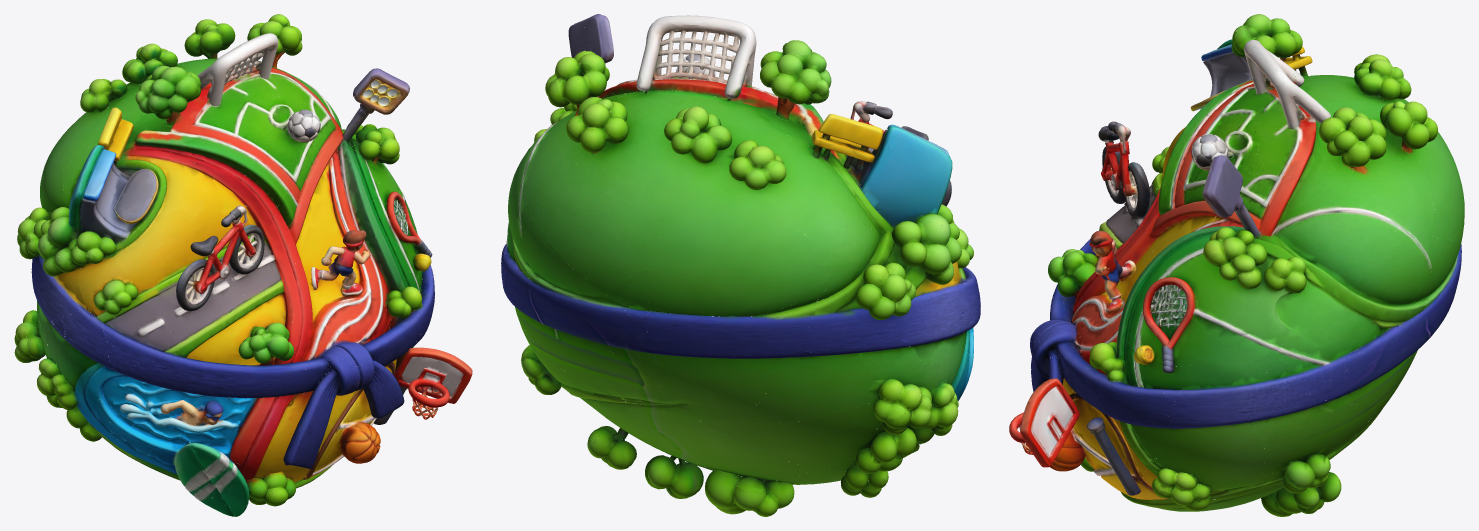
Rendered from planeta.glb.
3 renders of one model, left to right at view 1: azimuth 30°, elevation 25°; view 2: azimuth 150°, elevation 25°; view 3: azimuth 270°, elevation 25°, orthographic. The views are drawn at different scales.
Visible parts, largest first — view 1: SM_Planeta; view 2: SM_Planeta; view 3: SM_Planeta.
Part boxes in pixels (left/top/right/bottom): SM_Planeta: left=14, top=14, right=472, bottom=516; SM_Planeta: left=501, top=14, right=980, bottom=516; SM_Planeta: left=1009, top=14, right=1464, bottom=516.
Bounding box in the file's own units: 2.1 × 2.25 × 2.
Materials: 1 (1 with a texture image).
